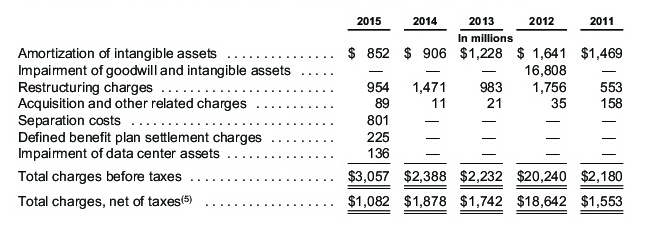table: (0, 0, 649, 228)
